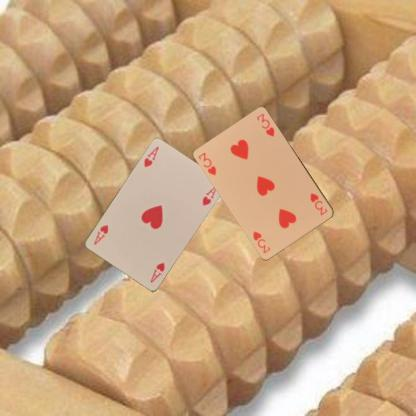3h: (196, 150, 218, 176), (308, 190, 329, 216)
Ah: (141, 144, 160, 169), (147, 260, 166, 284)
